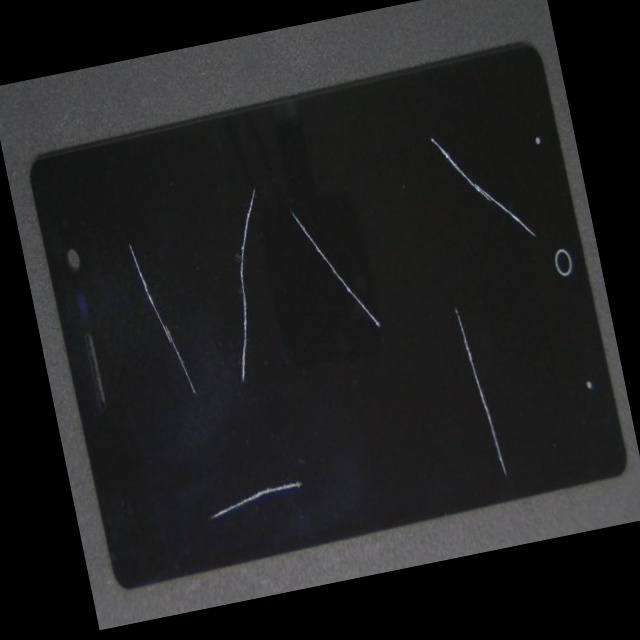scratch: (133, 24, 364, 359), (236, 215, 542, 440)
